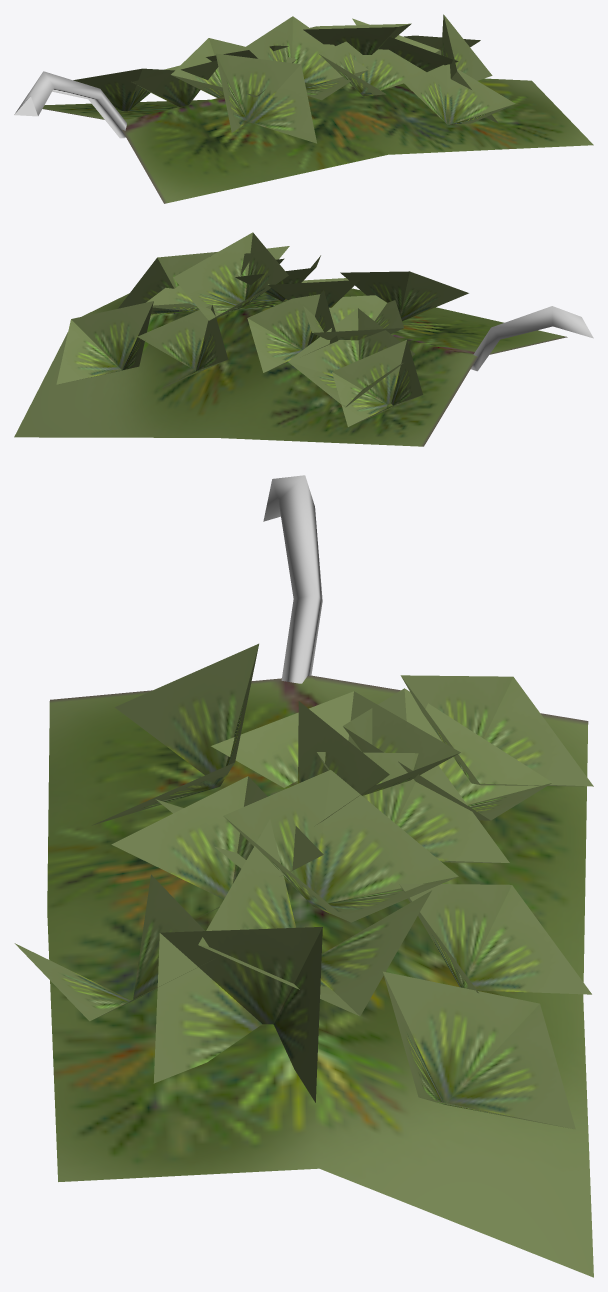
Rendered from JiaYeSiWai1_ShuSongZhi_1.FBX.
3 views of the same model, one above another, from view 1: azimuth 30°, elevation 25°; view 2: azimuth 150°, elevation 25°; view 3: azimuth 270°, elevation 25° (orthographic). The views are drawn at different scales.
Visible parts, largest first — view 1: JiaYeSiWai1_ShuSongZhi_1a, JiaYeSiWai1_ShuSongZhi_1b; view 2: JiaYeSiWai1_ShuSongZhi_1a, JiaYeSiWai1_ShuSongZhi_1b; view 3: JiaYeSiWai1_ShuSongZhi_1a, JiaYeSiWai1_ShuSongZhi_1b.
Boxes of the visible parts, x1=… form: JiaYeSiWai1_ShuSongZhi_1a: x1=42, y1=14, x2=593, y2=203; JiaYeSiWai1_ShuSongZhi_1b: x1=14, y1=71, x2=126, y2=138; JiaYeSiWai1_ShuSongZhi_1a: x1=14, y1=232, x2=567, y2=446; JiaYeSiWai1_ShuSongZhi_1b: x1=471, y1=306, x2=593, y2=371; JiaYeSiWai1_ShuSongZhi_1a: x1=14, y1=643, x2=593, y2=1277; JiaYeSiWai1_ShuSongZhi_1b: x1=263, y1=475, x2=322, y2=683.
Size of the model in its own units: 432 by 154 by 221.
